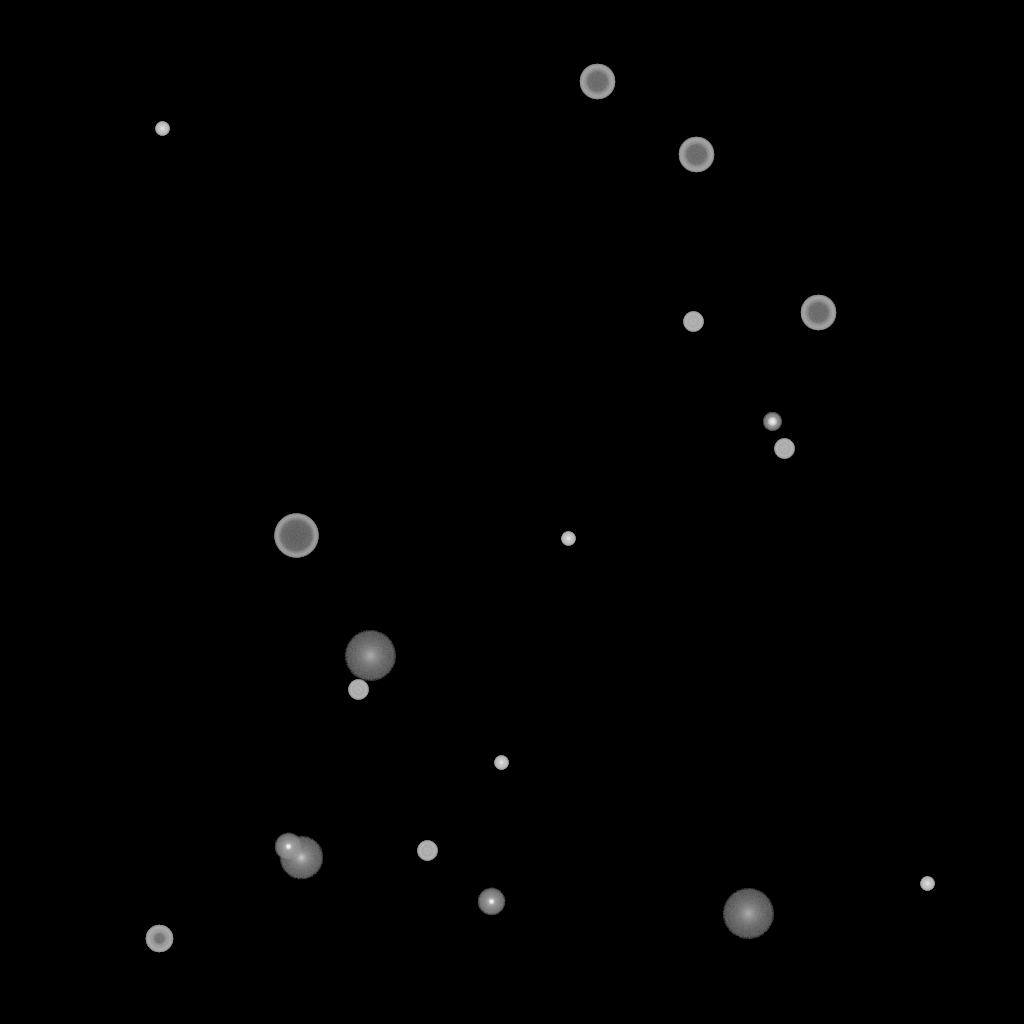depth:-10: (477, 888, 505, 916), (274, 833, 302, 861)
depth:-20: (763, 413, 781, 431)
depth:-30: (561, 532, 575, 546), (155, 122, 169, 136), (494, 756, 508, 770), (920, 877, 934, 891)
depth:-40: (348, 680, 368, 700), (774, 439, 794, 459), (683, 312, 703, 332), (417, 841, 437, 861)
depth:-50: (145, 925, 173, 953)
depth:-60: (678, 137, 714, 173), (800, 295, 836, 331), (579, 64, 615, 100)
depth:-70: (274, 514, 318, 558)
depth:10: (279, 836, 323, 880)
depth:20: (344, 631, 396, 681), (722, 889, 774, 939)
